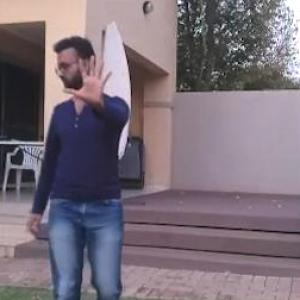follow_hand: (70, 51, 115, 110)
